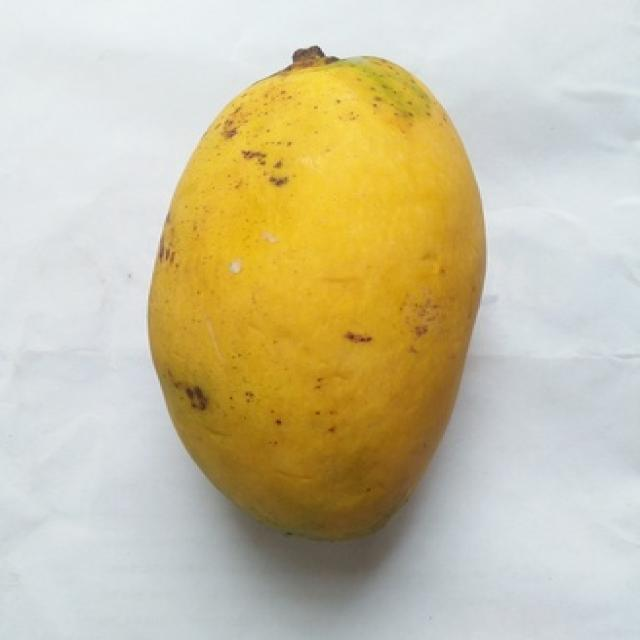Mango: (152, 49, 484, 536)
